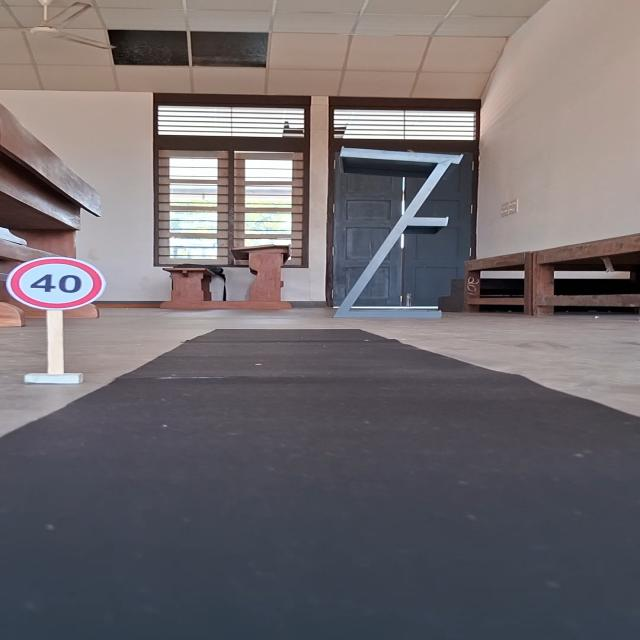Speed40: (4, 256, 109, 314)
